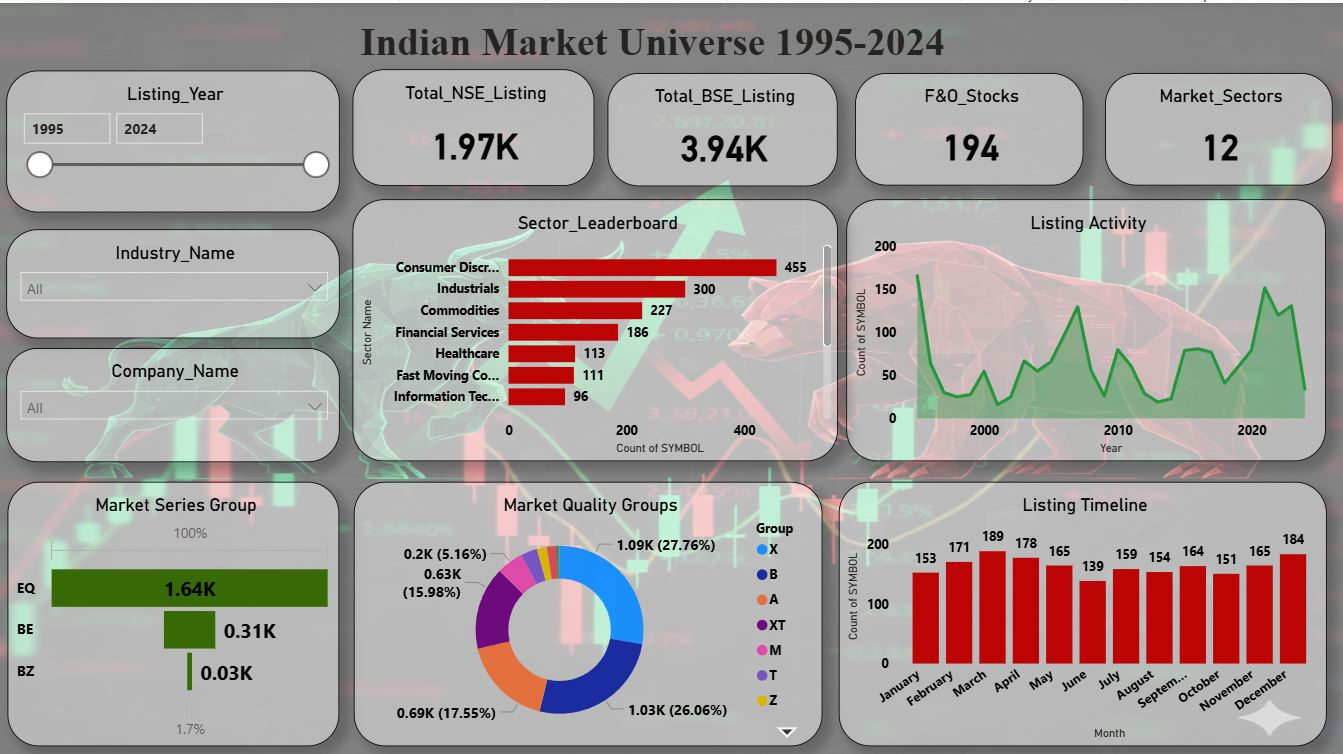

The page's visual inventory and layout, read from the dashboard file:
{"tool":"powerbi","page":{"name":"Dashboard","canvas":[1280,720],"ordinal":0},"visuals":[{"type":"group","id":"g1","title":"Group 1","box":[5.9,63.6,1263.6,136.9],"z":0},{"type":"card","title":"Total_NSE_Listing","fields":{"Values":["Count(EQUITY_L.SYMBOL)"]},"box":[336.1,63.6,230.4,111],"z":0,"group":"g1"},{"type":"textbox","title":"a","box":[337.6,11,592.8,54.9],"z":1000},{"type":"card","title":"Total_BSE_Listing","fields":{"Values":["Count(BSE_Equity.ISIN No)"]},"box":[579,67.7,219,108.3],"z":1000,"group":"g1"},{"type":"card","title":"F&O_Stocks","fields":{"Values":["Count(FnO_stocks_Dec_2022.Symbol)"]},"box":[814.7,67.7,217.9,107.1],"z":2000,"group":"g1"},{"type":"areaChart","title":"Listing Activity","fields":{"Y":["CountNonNull(EQUITY_L.SYMBOL)"],"Category":["EQUITY_L. DATE OF LISTING.Variation.Date Hierarchy.Year"]},"box":[805.5,186.6,456.9,249.7],"z":2000},{"type":"card","title":"Market_Sectors","fields":{"Values":["Count(BSE_Equity.Sector Name)"]},"box":[1052.8,67.7,216.7,107.1],"z":3000,"group":"g1"},{"type":"barChart","title":"Sector_Leaderboard","fields":{"Category":["BSE_Equity.Sector Name"],"Y":["CountNonNull(EQUITY_L.SYMBOL)"]},"box":[336.2,186.6,462.4,249.7],"z":3000},{"type":"slicer","title":"Listing_Year","fields":{"Values":["EQUITY_L. DATE OF LISTING.Variation.Date Hierarchy.Year"]},"box":[5.9,65.3,317.3,135.1],"z":4000,"group":"g1"},{"type":"donutChart","title":"Market Quality Groups","fields":{"Category":["BSE_Equity.Group"],"Y":["CountNonNull(BSE_Equity.Security Id)"]},"box":[336.6,456,446.4,252.1],"z":4000},{"type":"funnel","title":"Market Series Group","fields":{"Category":["EQUITY_L. SERIES"],"Y":["Count(EQUITY_L.SYMBOL)"]},"box":[7.2,456,316.1,252.1],"z":5000},{"type":"slicer","title":"Industry_Name","fields":{"Values":["BSE_Equity.Industry"]},"box":[5.7,215.1,317.3,103.8],"z":6000,"group":"g2"},{"type":"columnChart","title":"Listing Timeline","fields":{"Category":["EQUITY_L. DATE OF LISTING.Variation.Date Hierarchy.Month"],"Y":["CountNonNull(EQUITY_L.SYMBOL)"]},"box":[798.7,456,464.5,252.1],"z":6000},{"type":"group","id":"g2","title":"Group 2","box":[5.7,215.1,317.3,222],"z":7000},{"type":"slicer","title":"Company_Name","fields":{"Values":["BSE_Equity.Security Name"]},"box":[5.7,328.5,317.3,108.6],"z":7001,"group":"g2"}]}

Visuals, with their boxes in screenshot pixels (x1, y1, x2, y2), scaled from the page's 1280x720 canvas onto the 1343x754 screenshot:
"Group 1" group: 6/67/1332/210
"Total_NSE_Listing" card: 353/67/594/183
"a" textbox: 354/12/976/69
"Total_BSE_Listing" card: 607/71/837/184
"F&O_Stocks" card: 855/71/1083/183
"Listing Activity" areaChart: 845/195/1325/457
"Market_Sectors" card: 1105/71/1332/183
"Sector_Leaderboard" barChart: 353/195/838/457
"Listing_Year" slicer: 6/68/339/210
"Market Quality Groups" donutChart: 353/478/822/742
"Market Series Group" funnel: 8/478/339/742
"Industry_Name" slicer: 6/225/339/334
"Listing Timeline" columnChart: 838/478/1325/742
"Group 2" group: 6/225/339/458
"Company_Name" slicer: 6/344/339/458
